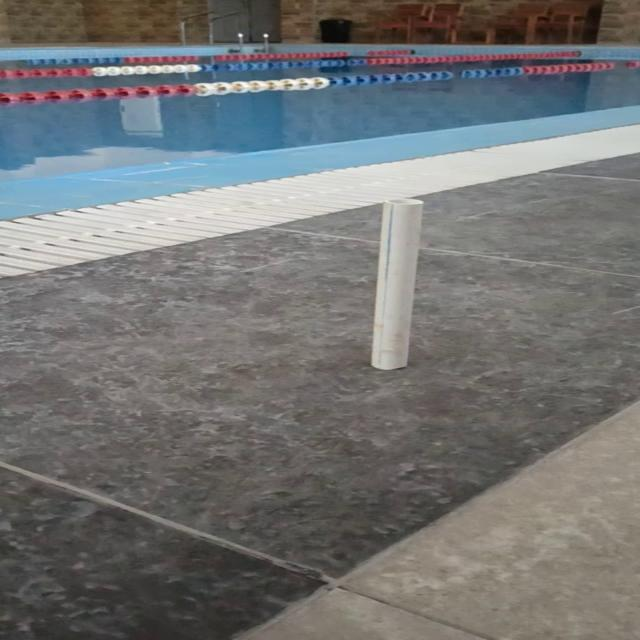Cube: (368, 198, 424, 370)
